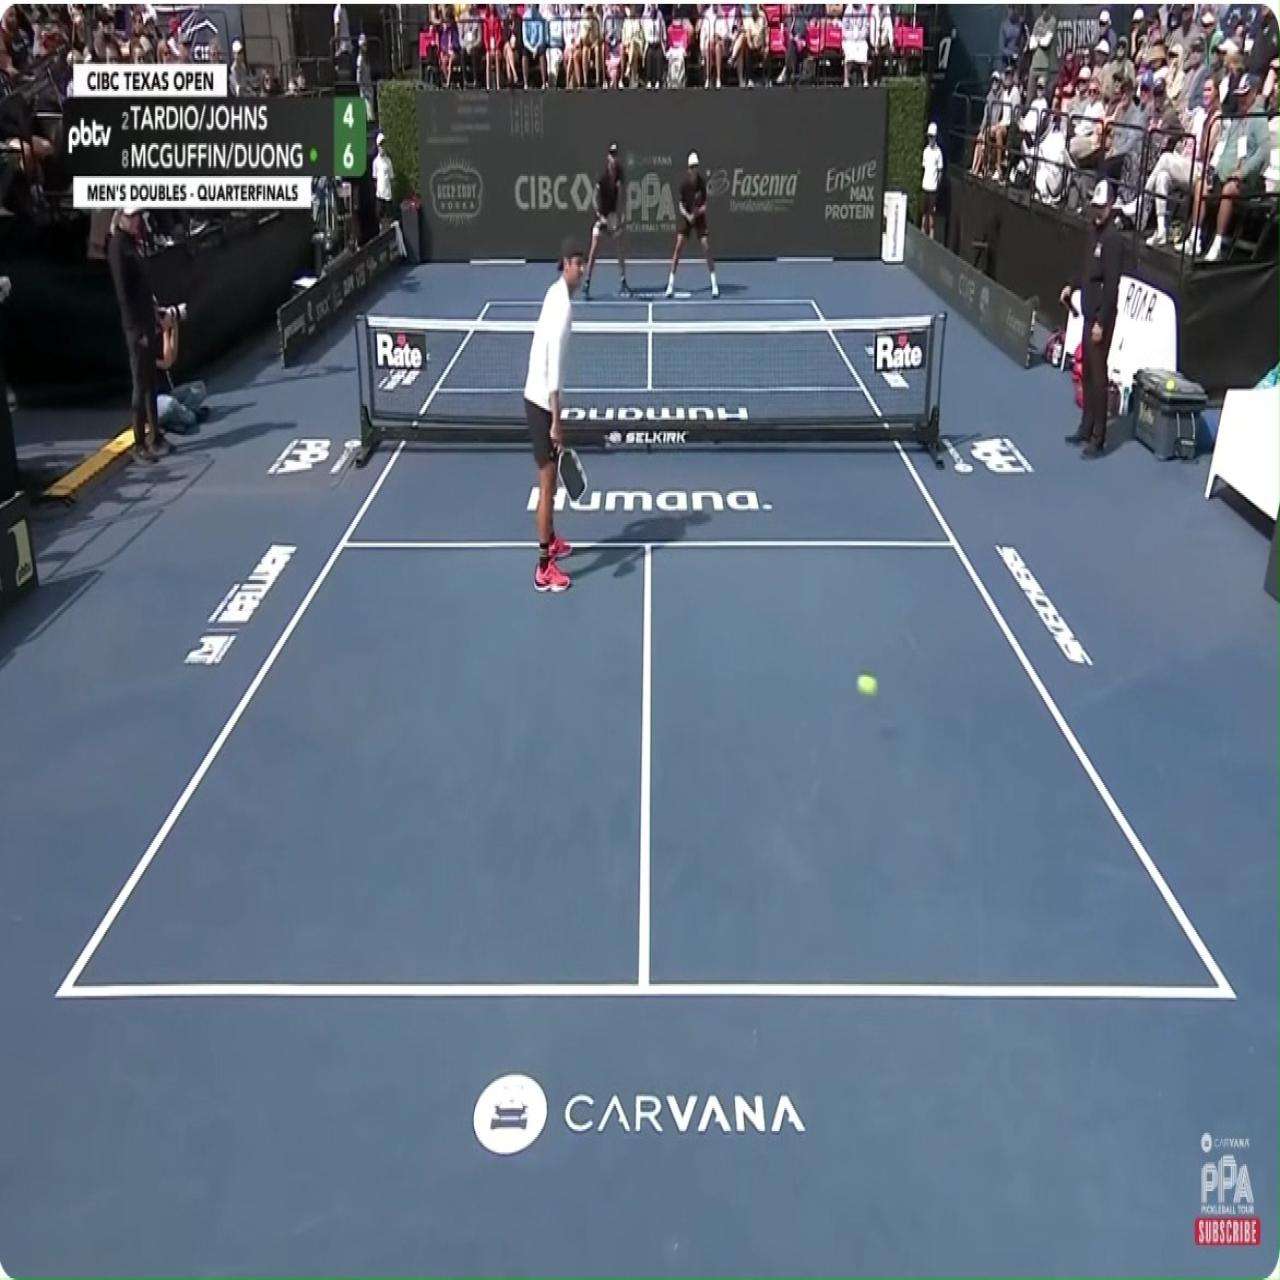pickleball: (856, 673, 877, 696)
